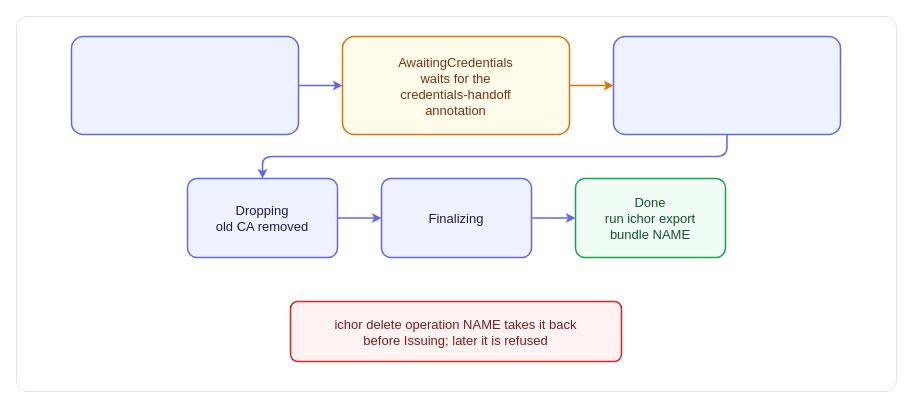
This 913x408 diagram has some shape labels left out. The shapes that lost their labels are listed below. From the top down, each one's centre as x and y in pixels, then its label:
(184,85): Accepting new CA accepted beside the old
(726,85): Issuing three passes; etcd reboots every control plane after each
